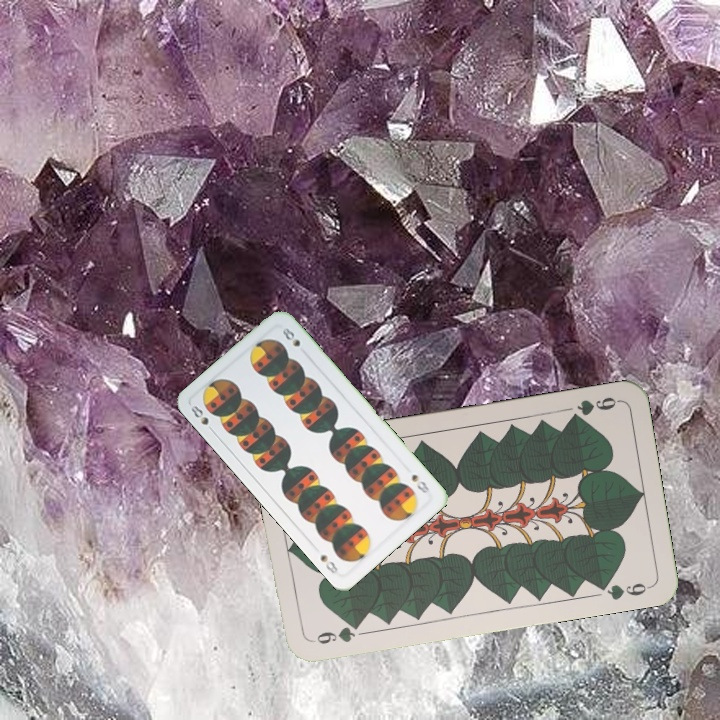G9: (565, 393, 622, 423), (312, 619, 365, 647)
S8: (187, 401, 218, 436), (407, 470, 432, 496)
